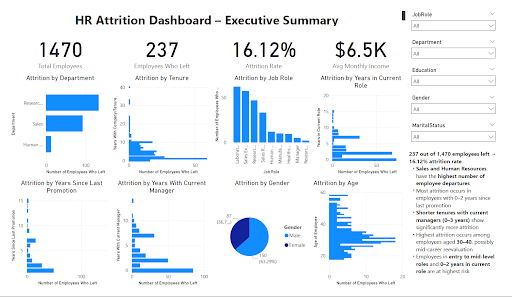

What the dashboard file says about the page in this screenshot:
{"tool":"powerbi","page":{"name":"HR Attrition Dashboard","canvas":[1280,720],"ordinal":0},"visuals":[{"type":"card","fields":{"Values":["HR Data.Total Employees"]},"box":[0,48,264,120],"z":0},{"type":"card","fields":{"Values":["HR Data.Employees Who Left"]},"box":[264,48,264,120],"z":1000},{"type":"card","fields":{"Values":["HR Data.Attrition Rate"]},"box":[528,48,264,120],"z":2000},{"type":"card","fields":{"Values":["HR Data.Avg Monthly Income"]},"box":[792,48,240,120],"z":3000},{"type":"clusteredBarChart","title":"Attrition by Department","fields":{"Category":["HR Data.Department"],"Y":["HR Data.Employees Who Left"]},"box":[0,168,264,264],"z":4000},{"type":"clusteredColumnChart","title":"Attrition by Job Role","fields":{"Y":["HR Data.Employees Who Left"],"Category":["HR Data.JobRole"]},"box":[528,168,264,264],"z":5000},{"type":"pieChart","title":"Attrition by Gender","fields":{"Y":["HR Data.Employees Who Left"],"Category":["HR Data.Gender"]},"box":[528,440,256,280],"z":6000},{"type":"clusteredBarChart","title":"Attrition by Tenure","fields":{"Y":["HR Data.Employees Who Left"],"Category":["HR Data.Tenure"]},"box":[264,168,264,264],"z":7000},{"type":"clusteredBarChart","title":"Attrition by Years Since Last Promotion","fields":{"Category":["HR Data.YearsSinceLastPromotion"],"Y":["HR Data.Employees Who Left"]},"box":[0,440,272,280],"z":8000},{"type":"slicer","fields":{"Values":["HR Data.Gender"]},"box":[1032,216,240,72],"z":9000},{"type":"slicer","fields":{"Values":["HR Data.Department"]},"box":[1032,72,240,72],"z":10000},{"type":"slicer","fields":{"Values":["HR Data.JobRole"]},"box":[1032,0,240,72],"z":11000},{"type":"slicer","fields":{"Values":["HR Data.MaritalStatus"]},"box":[1032,288,240,72],"z":12000},{"type":"slicer","fields":{"Values":["HR Data.Education"]},"box":[1032,144,240,72],"z":13000},{"type":"clusteredBarChart","title":"Attrition by Years With Current Manager","fields":{"Y":["HR Data.Employees Who Left"],"Category":["HR Data.YearsWithCurrManager"]},"box":[272,440,248,280],"z":14000},{"type":"clusteredBarChart","title":"Attrition by Years in Current Role","fields":{"Y":["HR Data.Employees Who Left"],"Category":["HR Data.YearsInCurrentRole"]},"box":[792,168,240,264],"z":15000},{"type":"clusteredBarChart","title":"Attrition by Age","fields":{"Y":["HR Data.Employees Who Left"],"Category":["HR Data.Age"]},"box":[784,440,248,280],"z":16000},{"type":"textbox","box":[0,0,1032,48],"z":17000},{"type":"textbox","box":[1032,360,240,360],"z":18000}]}

Visuals, with their boxes on the page's 1280x720 design canvas (x1, y1, x2, y2). These are canvas units, not pixel positions in the 512x297 screenshot, which may show the page scaled, cropped or inside an application window:
card - HR Data.Total Employees: select_region(0, 48, 264, 168)
card - HR Data.Employees Who Left: select_region(264, 48, 528, 168)
card - HR Data.Attrition Rate: select_region(528, 48, 792, 168)
card - HR Data.Avg Monthly Income: select_region(792, 48, 1032, 168)
"Attrition by Department" clusteredBarChart: select_region(0, 168, 264, 432)
"Attrition by Job Role" clusteredColumnChart: select_region(528, 168, 792, 432)
"Attrition by Gender" pieChart: select_region(528, 440, 784, 720)
"Attrition by Tenure" clusteredBarChart: select_region(264, 168, 528, 432)
"Attrition by Years Since Last Promotion" clusteredBarChart: select_region(0, 440, 272, 720)
slicer - HR Data.Gender: select_region(1032, 216, 1272, 288)
slicer - HR Data.Department: select_region(1032, 72, 1272, 144)
slicer - HR Data.JobRole: select_region(1032, 0, 1272, 72)
slicer - HR Data.MaritalStatus: select_region(1032, 288, 1272, 360)
slicer - HR Data.Education: select_region(1032, 144, 1272, 216)
"Attrition by Years With Current Manager" clusteredBarChart: select_region(272, 440, 520, 720)
"Attrition by Years in Current Role" clusteredBarChart: select_region(792, 168, 1032, 432)
"Attrition by Age" clusteredBarChart: select_region(784, 440, 1032, 720)
textbox: select_region(0, 0, 1032, 48)
textbox: select_region(1032, 360, 1272, 720)
